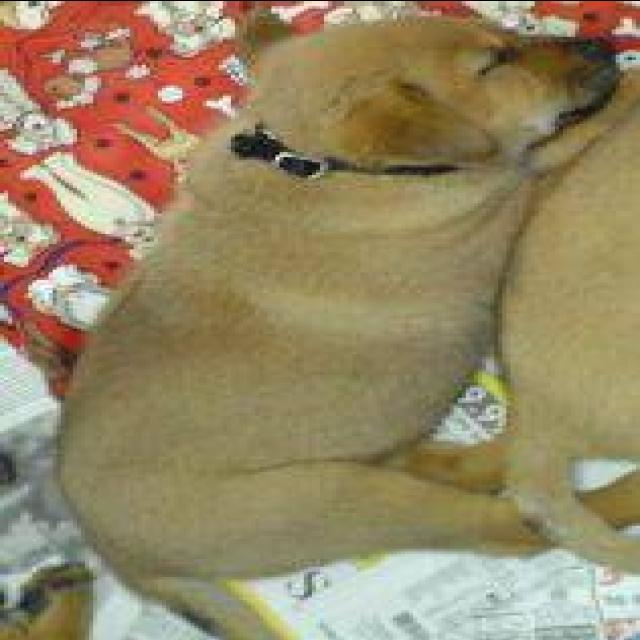dog: (40, 0, 631, 638)
